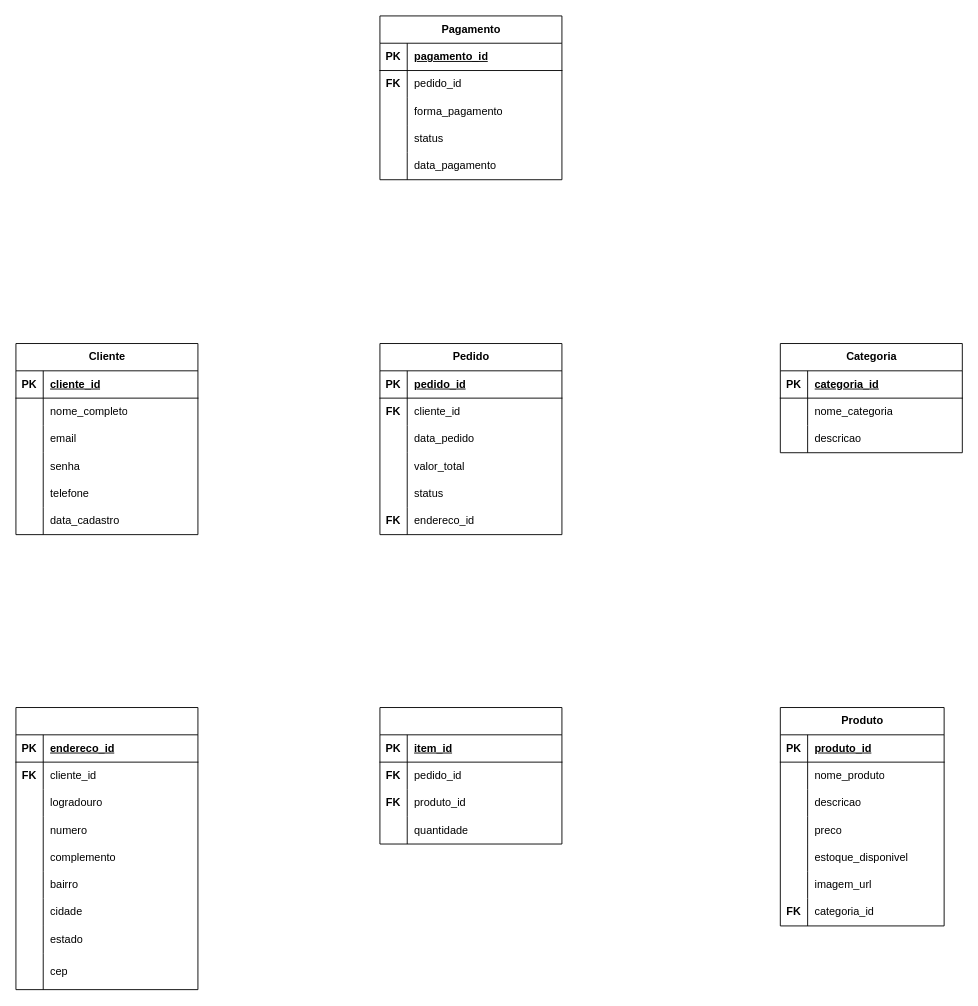
This 978x1006 diagram has some shape labels left out. Here are the shapes that lost their labels. From the top down, the box of each, then its label:
(379, 707, 562, 844): Item do Pedido
(15, 707, 198, 990): Endereço de Entrega
